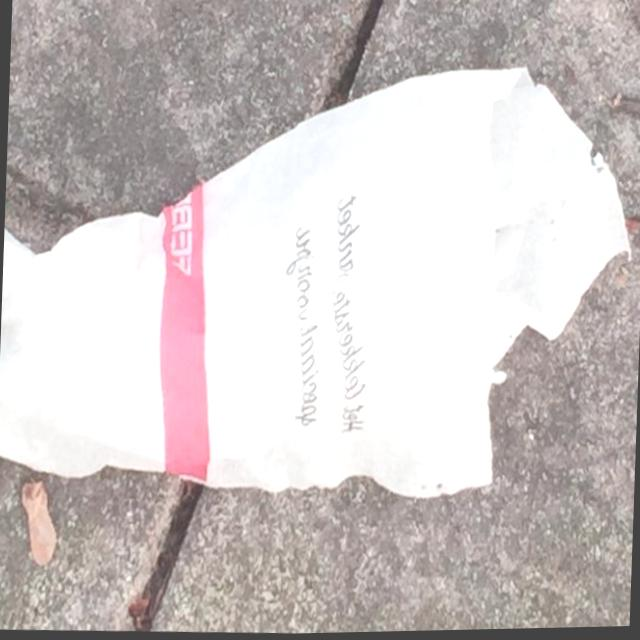Paper: (0, 44, 640, 521)
